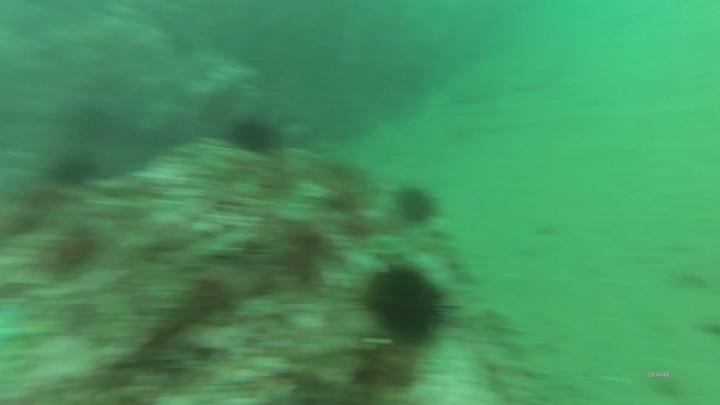echinus: (365, 253, 464, 349), (231, 116, 280, 159), (395, 181, 437, 228), (51, 152, 97, 188)
